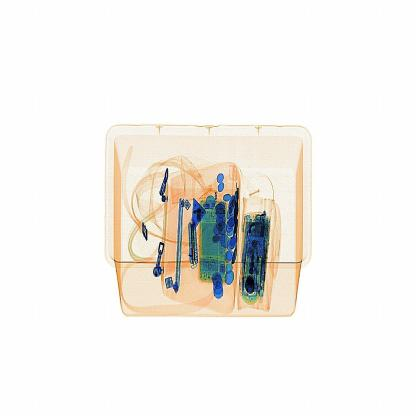scissors: (181, 213, 205, 270)
